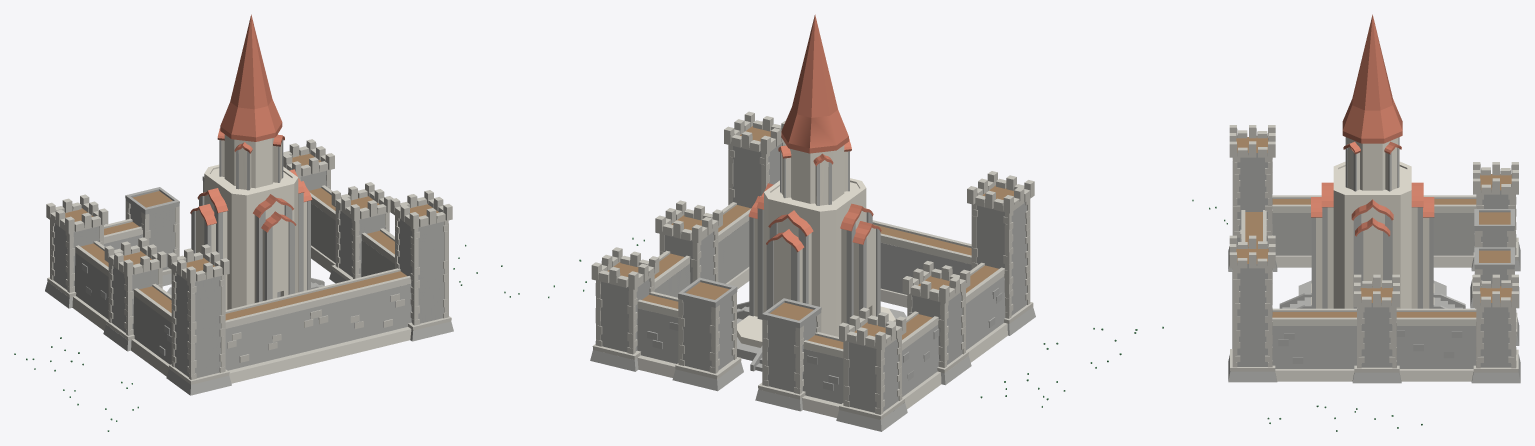
Rendered from chunk_1_0.glb.
3 views of the same model, side by side, from view 1: azimuth 30°, elevation 25°; view 2: azimuth 150°, elevation 25°; view 3: azimuth 270°, elevation 25° (orthographic). The views are drawn at different scales.
Visible parts, largest first — view 1: Batched_Chunk_1_0; view 2: Batched_Chunk_1_0; view 3: Batched_Chunk_1_0.
Part boxes in pixels (x1,y1,x2,y2): Batched_Chunk_1_0: (14, 14, 519, 431); Batched_Chunk_1_0: (548, 14, 1163, 431); Batched_Chunk_1_0: (1192, 14, 1520, 431).
Size of the model in its own units: 88.17 by 53.88 by 52.93.
